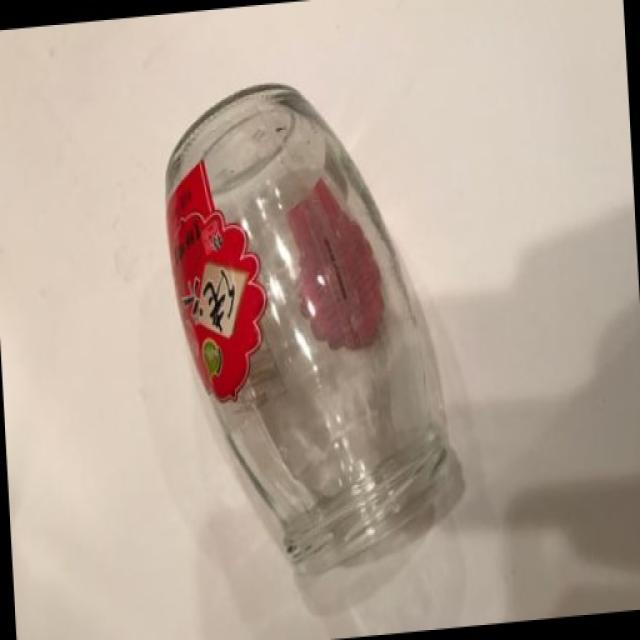vidrio: (146, 69, 539, 585)
